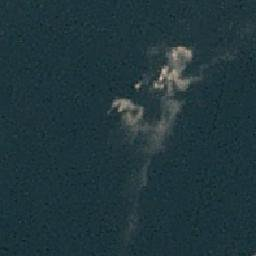debris: (133, 46, 207, 95), (106, 96, 145, 135)
